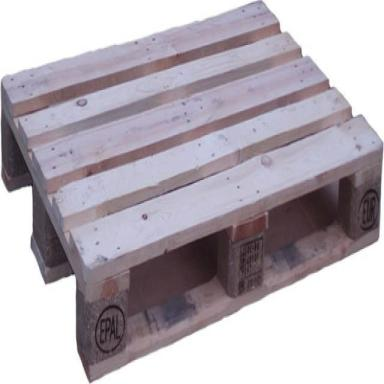pallet: (0, 0, 383, 383), (129, 232, 219, 316), (265, 180, 339, 256)
